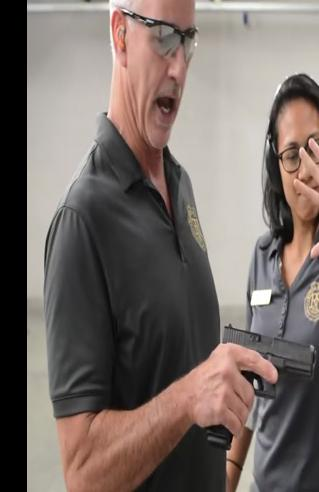pistol: (203, 324, 319, 450)
